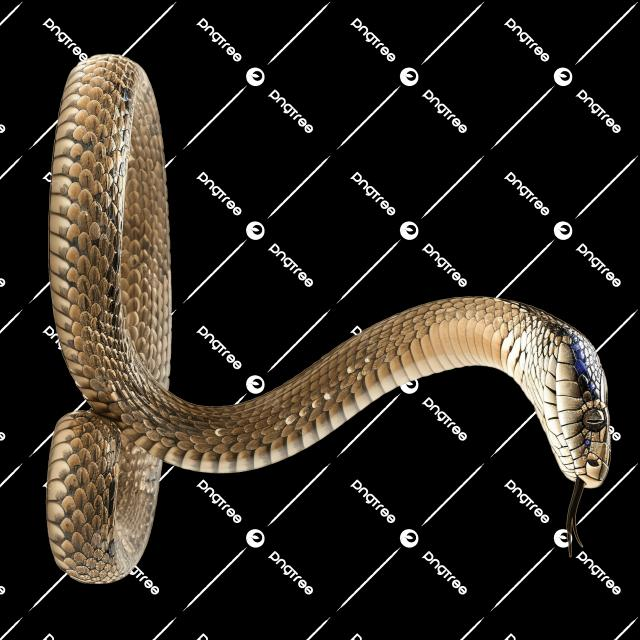Venomous: (484, 277, 640, 569)
